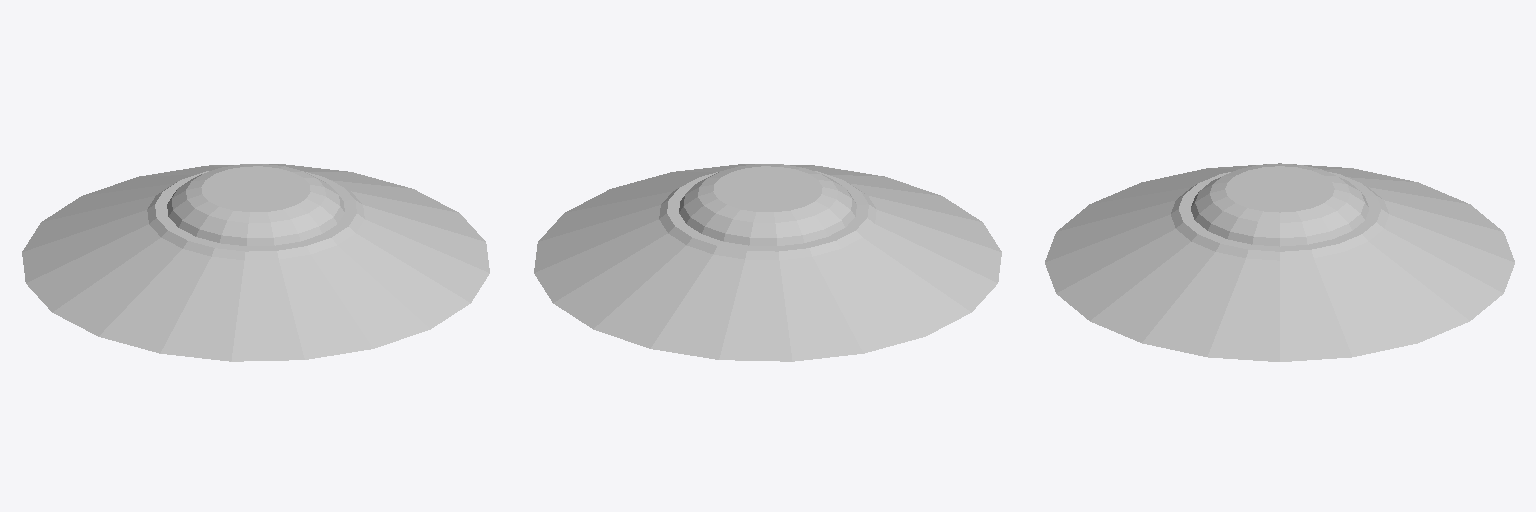
File: ufo.obj
3 renders of one model, left to right at view 1: azimuth 30°, elevation 25°; view 2: azimuth 150°, elevation 25°; view 3: azimuth 270°, elevation 25°, orthographic.
Parts seen in each view (by area): view 1: ufo; view 2: ufo; view 3: ufo.
Boxes of the visible parts, x1,y1,x2,y2 form: ufo: [22, 164, 489, 361]; ufo: [534, 164, 1001, 361]; ufo: [1045, 163, 1514, 361].
Bounding box in the file's own units: 462 × 144 × 462.